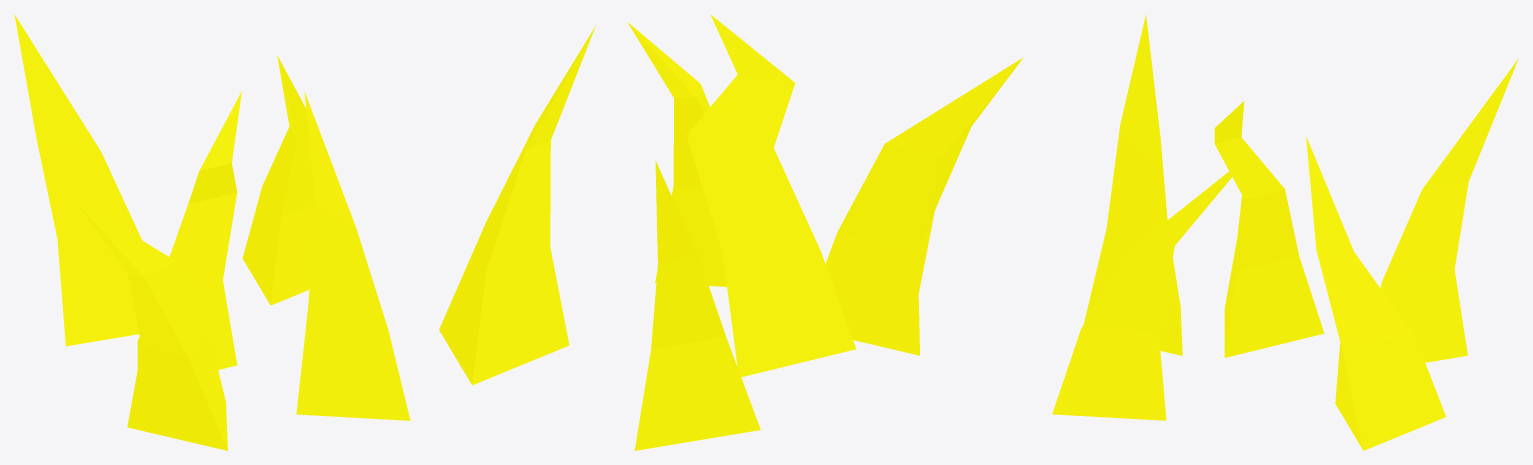
The model's file is grass_type_06.glb.
3 renders of one model, left to right at view 1: azimuth 30°, elevation 25°; view 2: azimuth 150°, elevation 25°; view 3: azimuth 270°, elevation 25°, orthographic. The views are drawn at different scales.
Parts seen in each view (by area): view 1: Cylinder; view 2: Cylinder; view 3: Cylinder.
Part boxes in pixels (left/top/right/bottom): Cylinder: left=14, top=14, right=410, bottom=450; Cylinder: left=439, top=14, right=1023, bottom=450; Cylinder: left=1052, top=15, right=1518, bottom=450.
Bounding box in the file's own units: 6.74 × 4.61 × 7.01.
